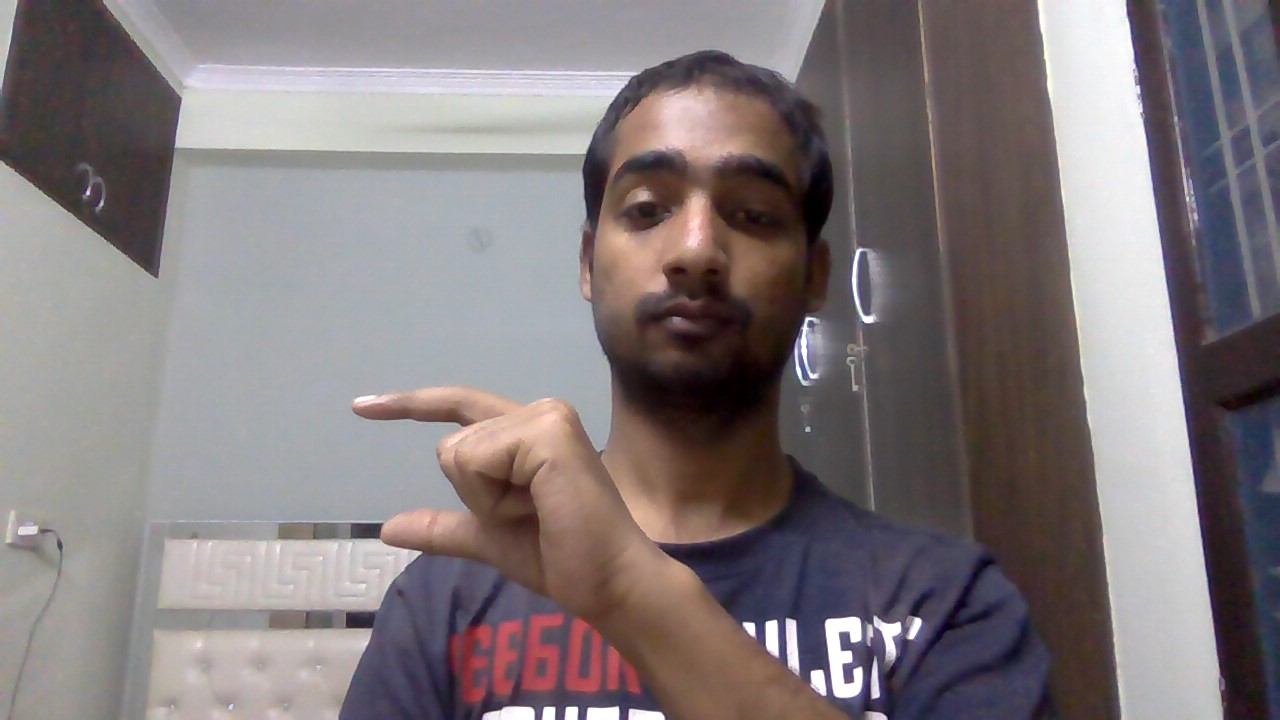Paste: (338, 376, 662, 636)
